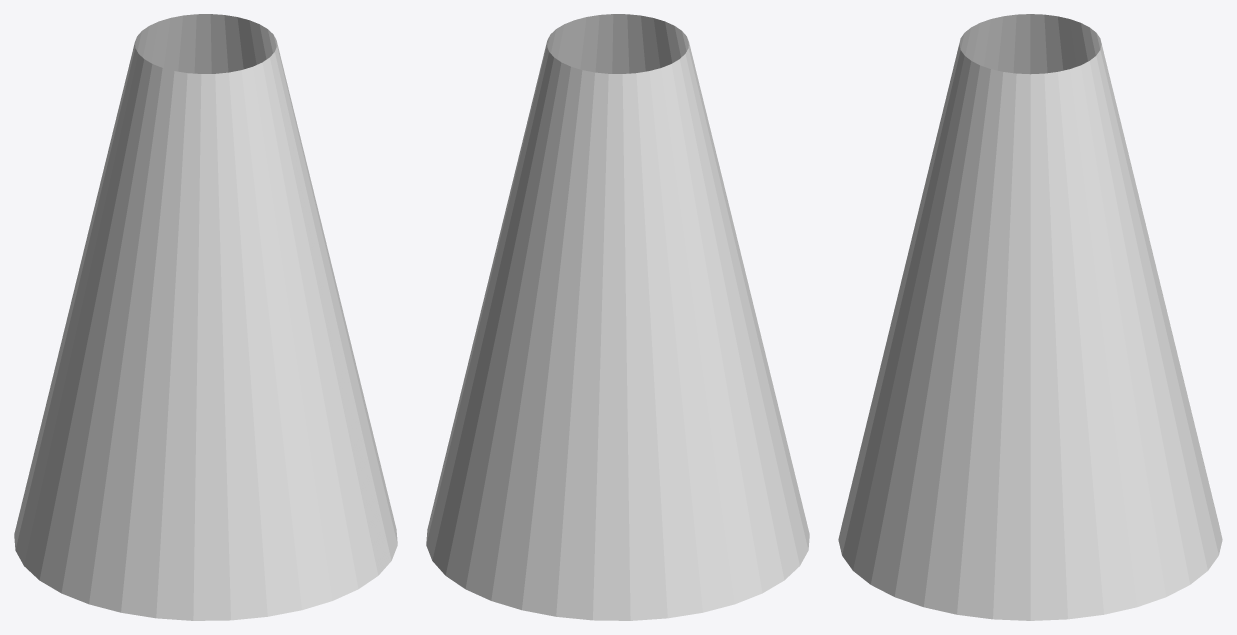
File: godray cylinder.fbx
3 views of the same model, side by side, from view 1: azimuth 30°, elevation 25°; view 2: azimuth 150°, elevation 25°; view 3: azimuth 270°, elevation 25° (orthographic).
Visible parts, largest first — view 1: Circle; view 2: Circle; view 3: Circle.
Boxes of the visible parts, x1=… form: Circle: x1=14, y1=14, x2=397, y2=620; Circle: x1=426, y1=14, x2=809, y2=620; Circle: x1=838, y1=14, x2=1222, y2=620.
Size of the model in its own units: 200 by 285 by 200.
